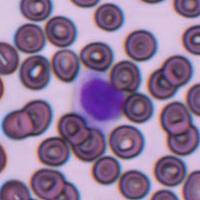L: (72, 70, 127, 123)
